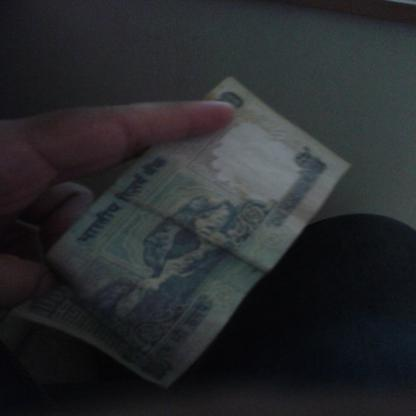Old100Back: (7, 74, 352, 390)
